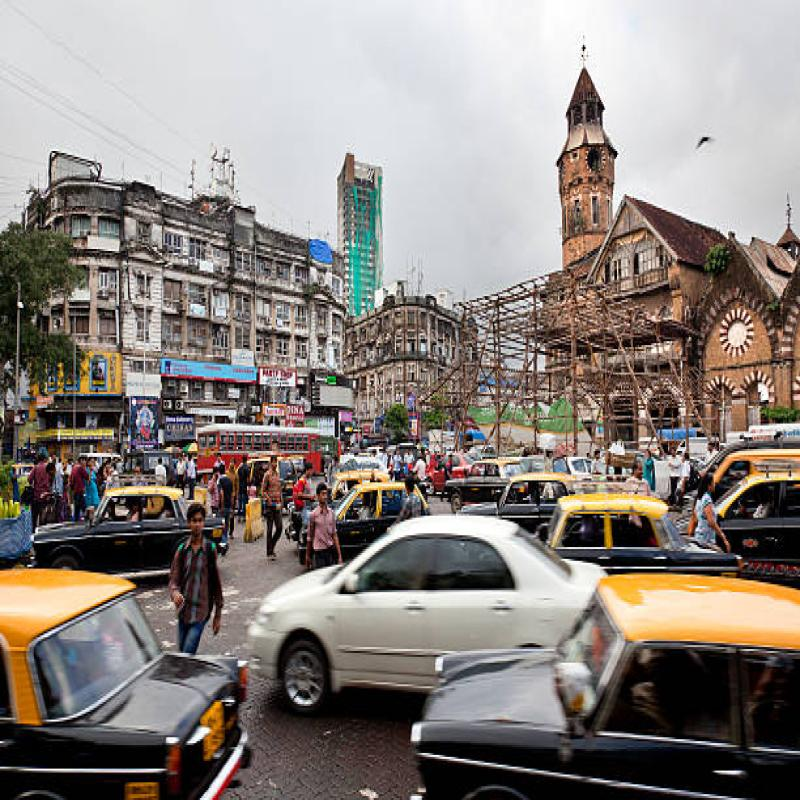car: (444, 596, 800, 800), (281, 469, 593, 676)
